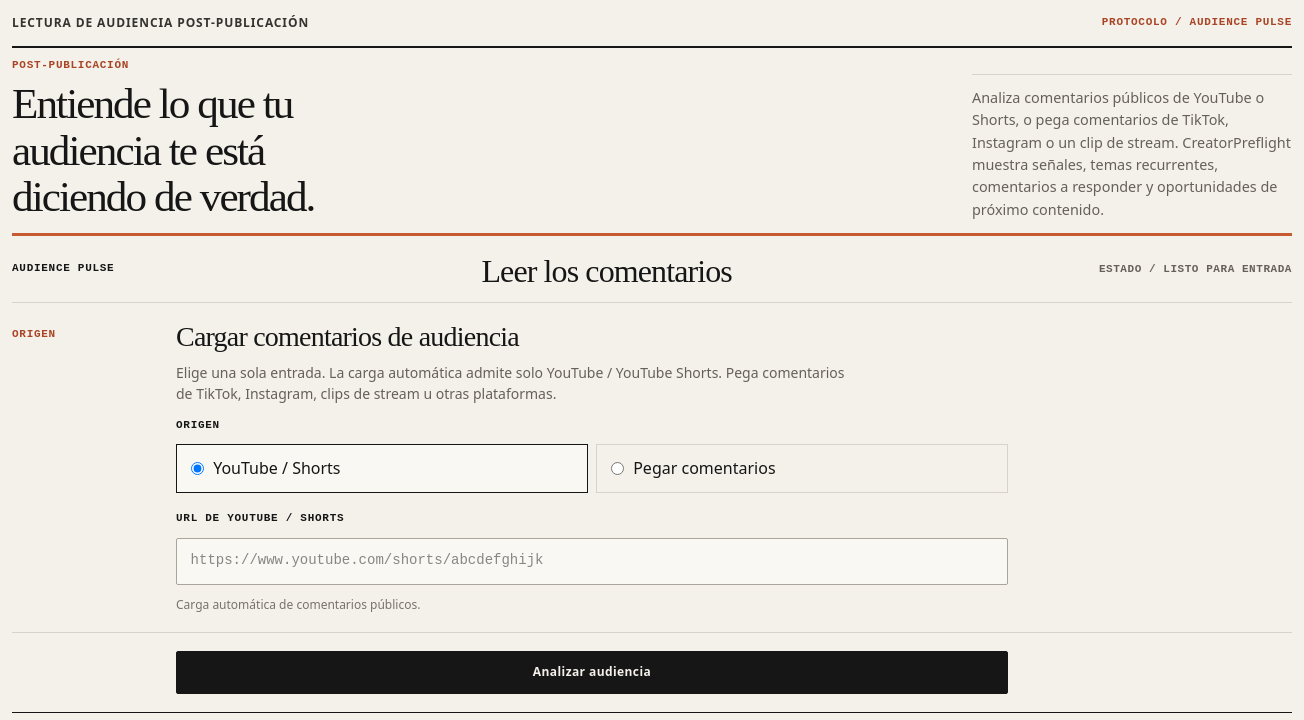
Test: AudiencePulseWorkspace source modes › localizes manual platform labels in Spanish
This screenshot has width=1304, height=720.
Click the radio button labelled "Pegar comentarios". click: (617, 468)
box: [611,462,624,475]
(page scrolled)
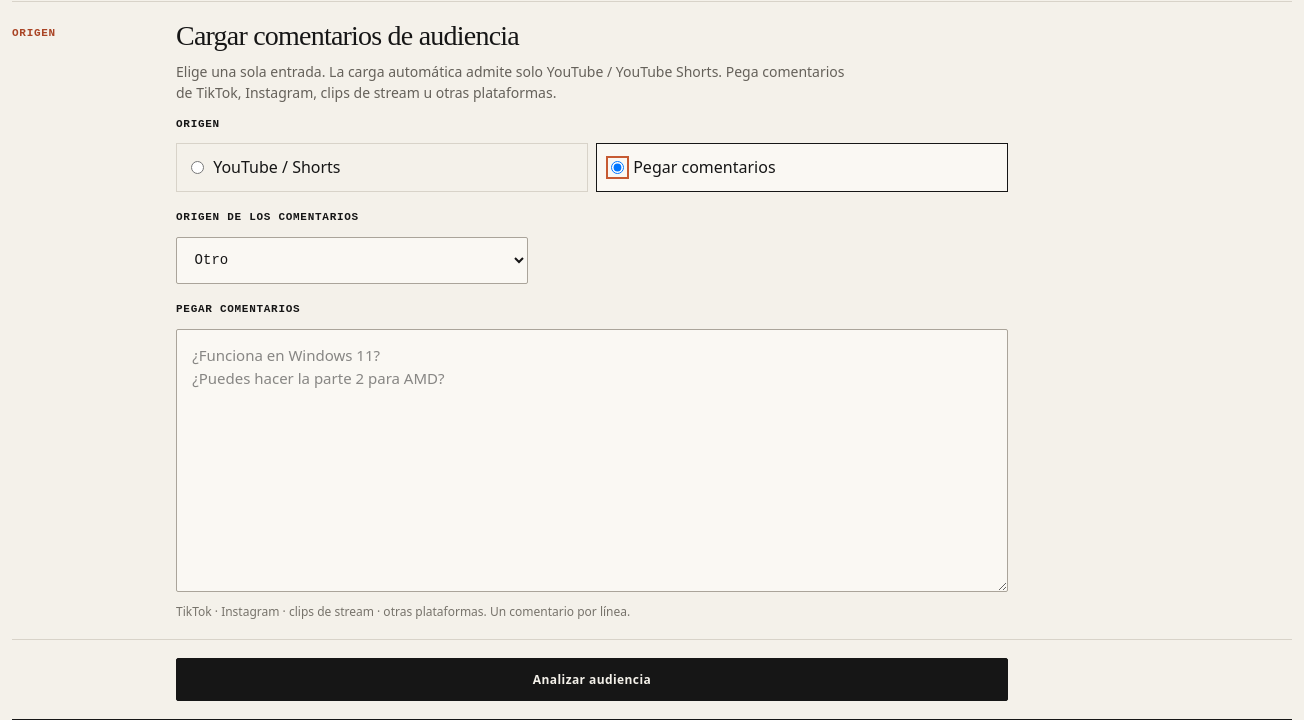
Expected: the label labelled "URL de YouTube / Shorts" is gone
Expected: the text box labelled "Pegar comentarios" is shown, [176,329,1008,592]
Expected: the text "Carga automática de comentarios públicos." is gone
